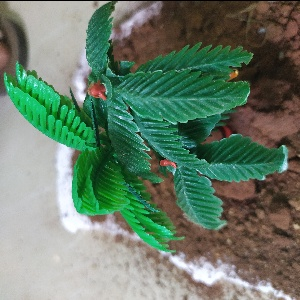plant: (3, 10, 269, 241)
